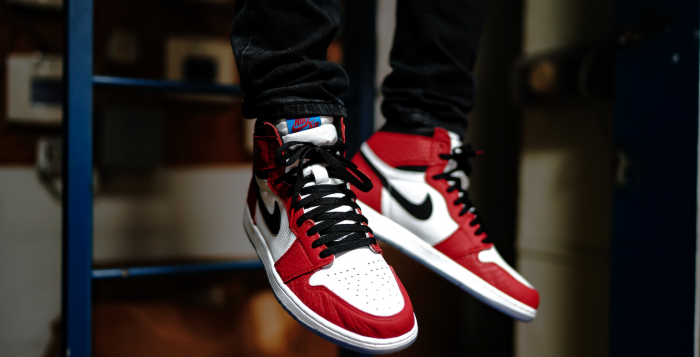Air Jordan 1 Spiderman: (238, 94, 421, 354), (351, 105, 549, 328)
